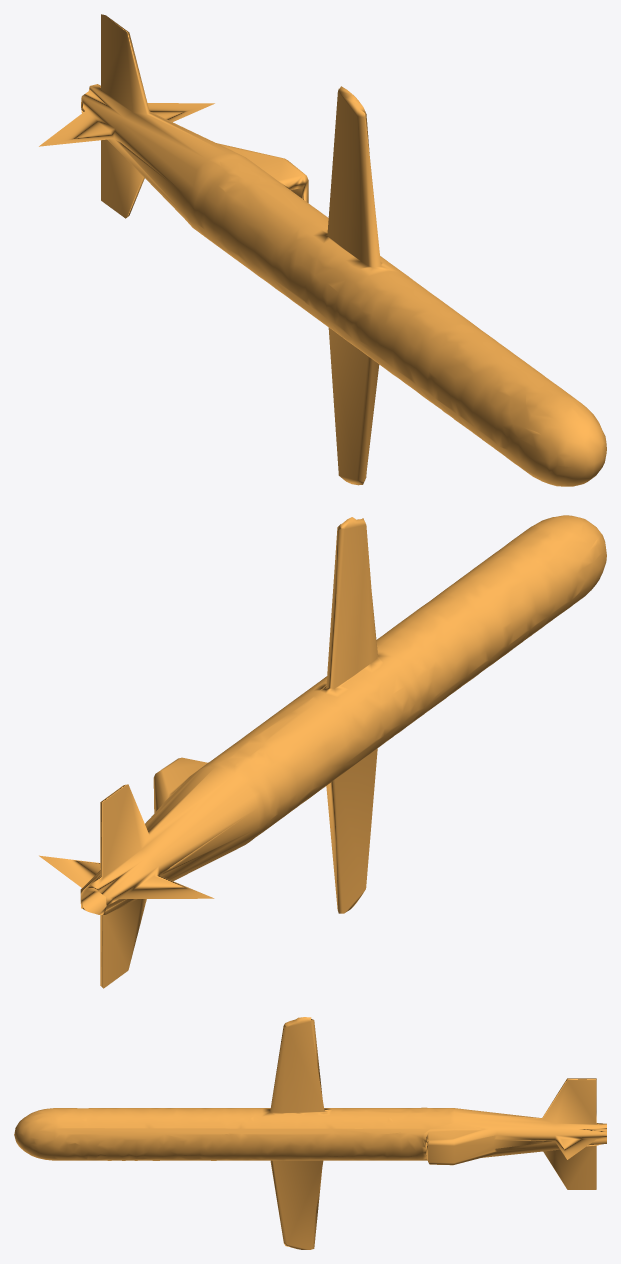
The model's file is ballistic_missile.glb.
3 views of the same model, one above another, from view 1: azimuth 30°, elevation 25°; view 2: azimuth 150°, elevation 25°; view 3: azimuth 270°, elevation 25° (orthographic). The views are drawn at different scales.
Parts seen in each view (by area): view 1: target_ballistic_missile; view 2: target_ballistic_missile; view 3: target_ballistic_missile.
Boxes of the visible parts, bbox=[...] form: target_ballistic_missile: bbox=[39, 14, 606, 486]; target_ballistic_missile: bbox=[39, 515, 606, 988]; target_ballistic_missile: bbox=[14, 1017, 606, 1249].
Bounding box in the file's own units: 0.1029 × 0.2168 × 0.5.
